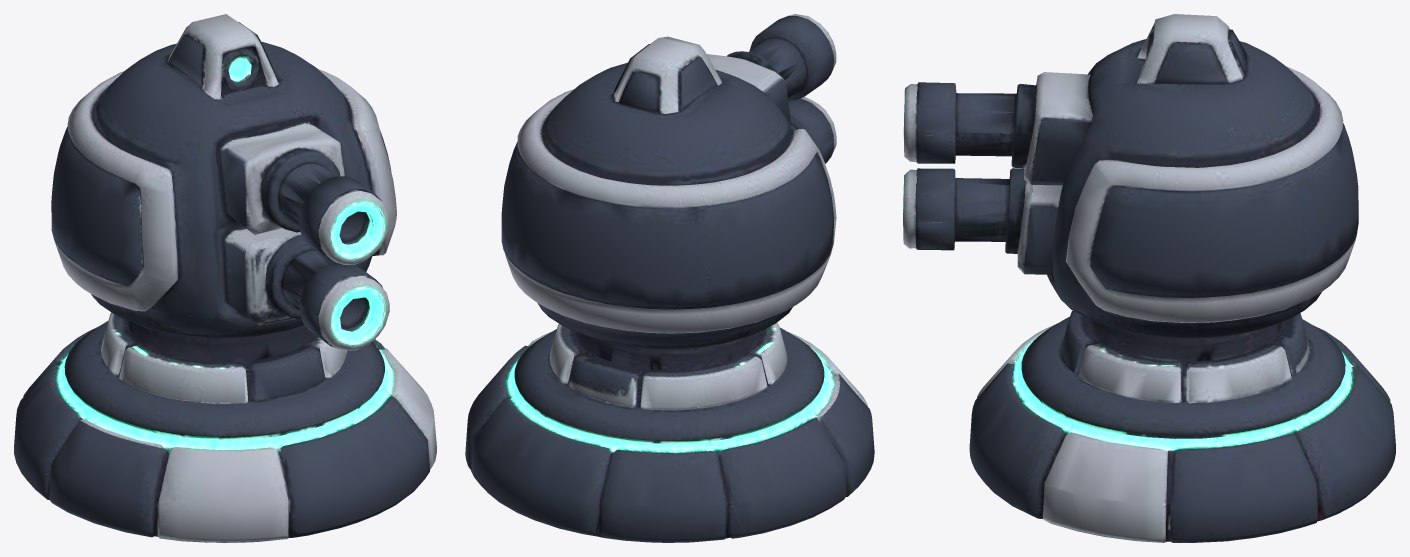
File: warrior-1-tier-2.glb
3 renders of one model, left to right at view 1: azimuth 30°, elevation 25°; view 2: azimuth 150°, elevation 25°; view 3: azimuth 270°, elevation 25°, orthographic. The views are drawn at different scales.
Visible parts, largest first — view 1: moving-assembly, fixed-platform; view 2: moving-assembly, fixed-platform; view 3: moving-assembly, fixed-platform.
Boxes of the visible parts, <box> form: moving-assembly: <box>51,14,396,350</box>; fixed-platform: <box>14,312,436,542</box>; moving-assembly: <box>501,14,836,349</box>; fixed-platform: <box>465,322,874,542</box>; moving-assembly: <box>903,14,1358,338</box>; fixed-platform: <box>969,310,1395,542</box>.
Bounding box in the file's own units: 0.6917 × 0.7737 × 0.799.
1 material, 1 textured.
